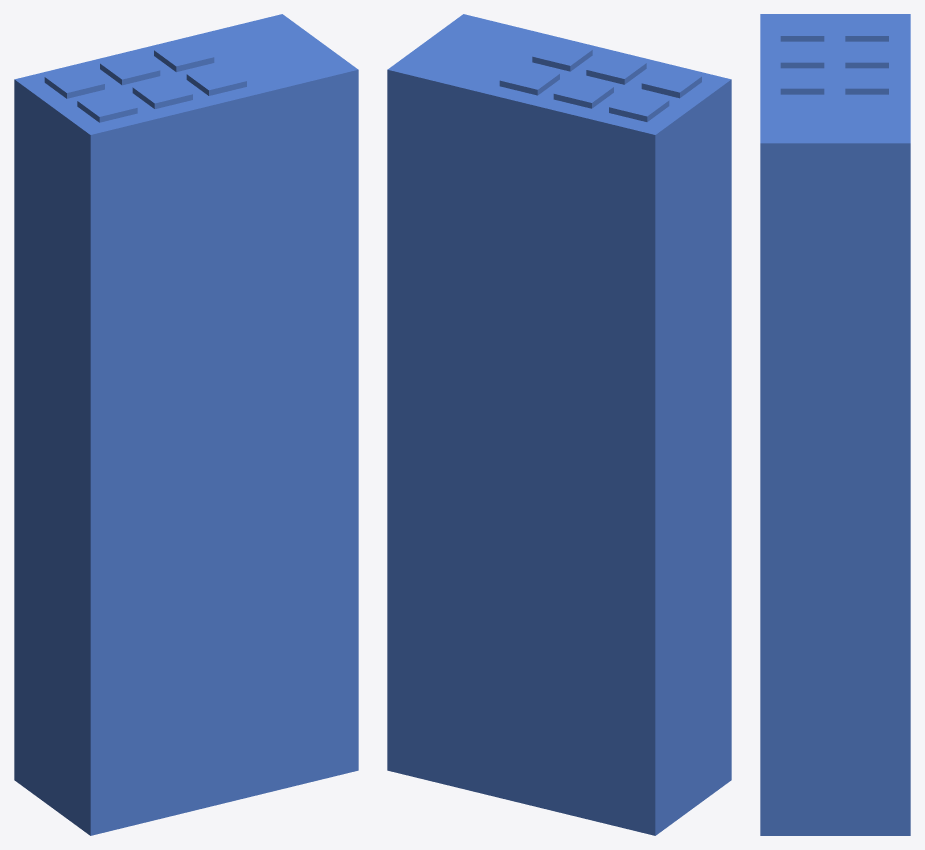
The model's file is Building2_blue.fbx.
3 renders of one model, left to right at view 1: azimuth 30°, elevation 25°; view 2: azimuth 150°, elevation 25°; view 3: azimuth 270°, elevation 25°, orthographic.
Visible parts, largest first — view 1: Building 2; view 2: Building 2; view 3: Building 2.
Part boxes in pixels (<box>): Building 2: <box>14,14,358,835</box>; Building 2: <box>387,14,731,835</box>; Building 2: <box>760,14,910,835</box>.
Bounding box in the file's own units: 1683 × 4241 × 828.
1 material, 1 textured.
